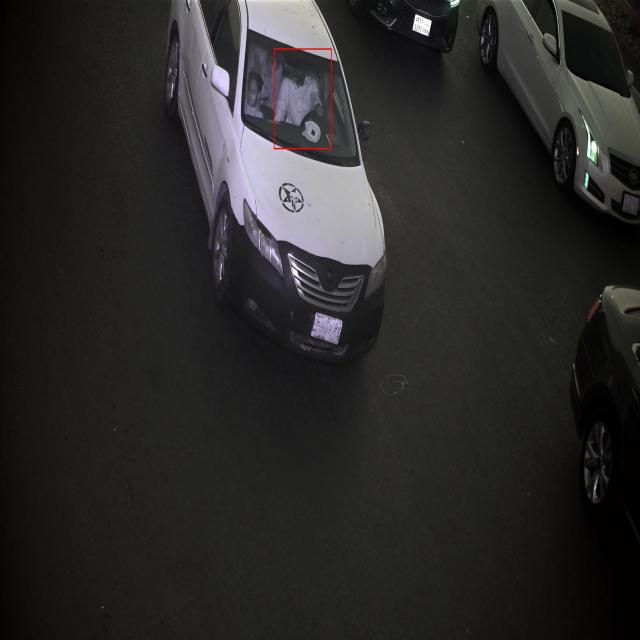windshield: (236, 27, 361, 168)
